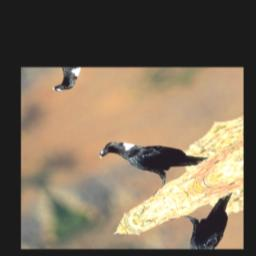Crow: (94, 106, 213, 207)
